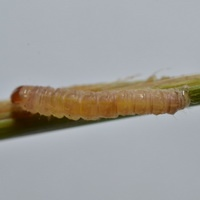insect: (0, 74, 199, 138), (11, 75, 199, 119)
